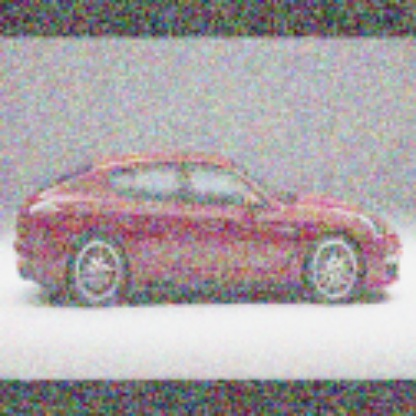Vehicle: (13, 146, 402, 308)
